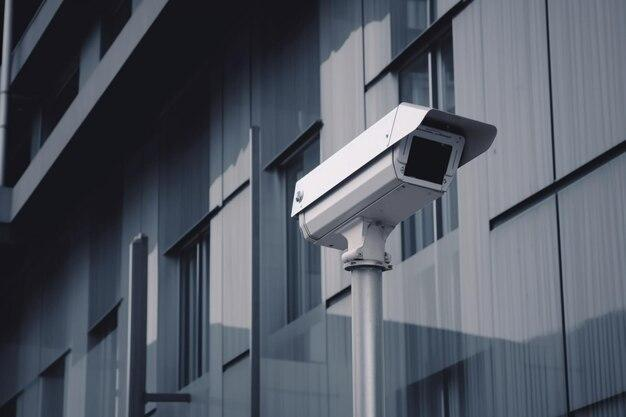------------------------------: (278, 95, 496, 269)
